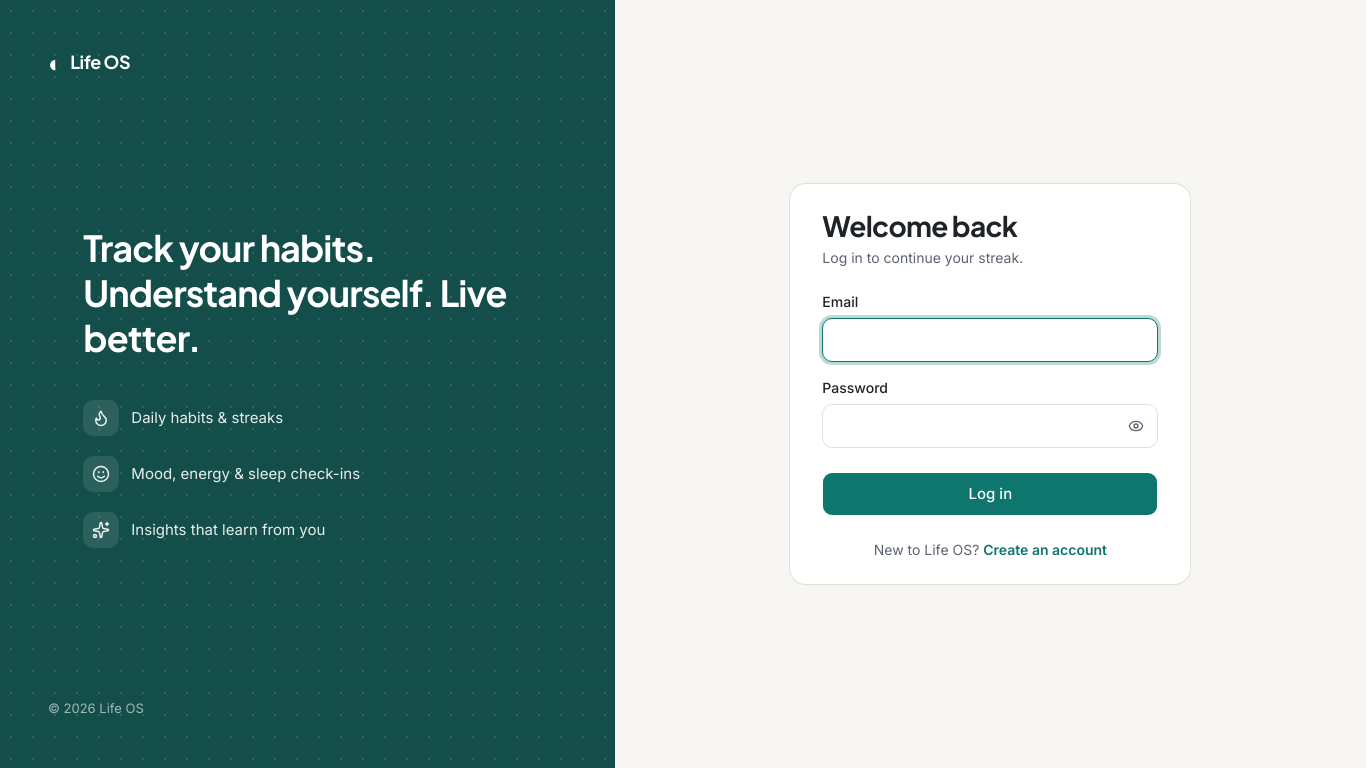
Test case: routing › sends a logged-out user to /login, then back to where they were going
The width and height of the screenshot is (1366, 768).
Expected: the heading "Welcome back" is shown, [822,208,1017,243]
Type "ahsan@example.com" into the field labelled "Email".
click(990, 340); type("ahsan@example.com")  # box [822,318,1158,362]
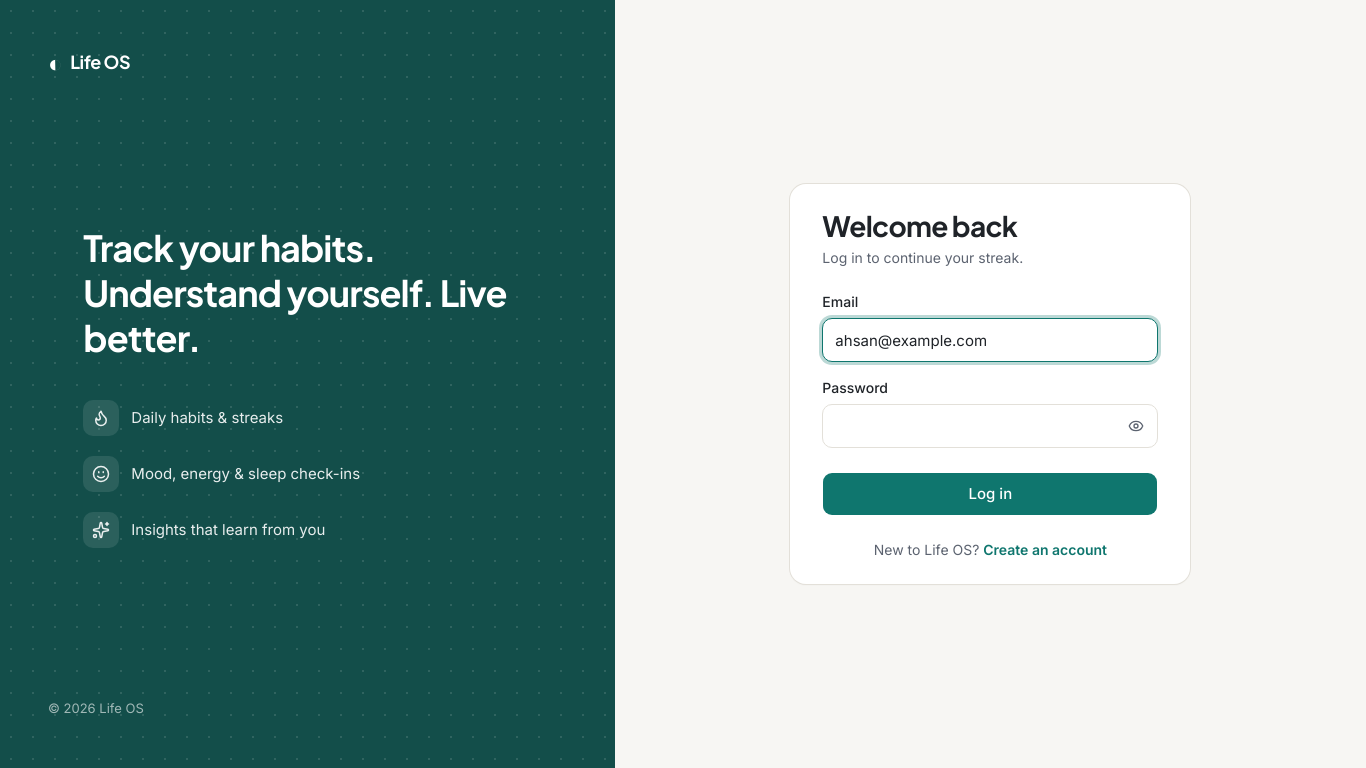
Type "Passw0rd!" into the password field labelled "Password".
click(990, 426); type("Passw0rd!")  # box [822,404,1158,448]
Then press Enter
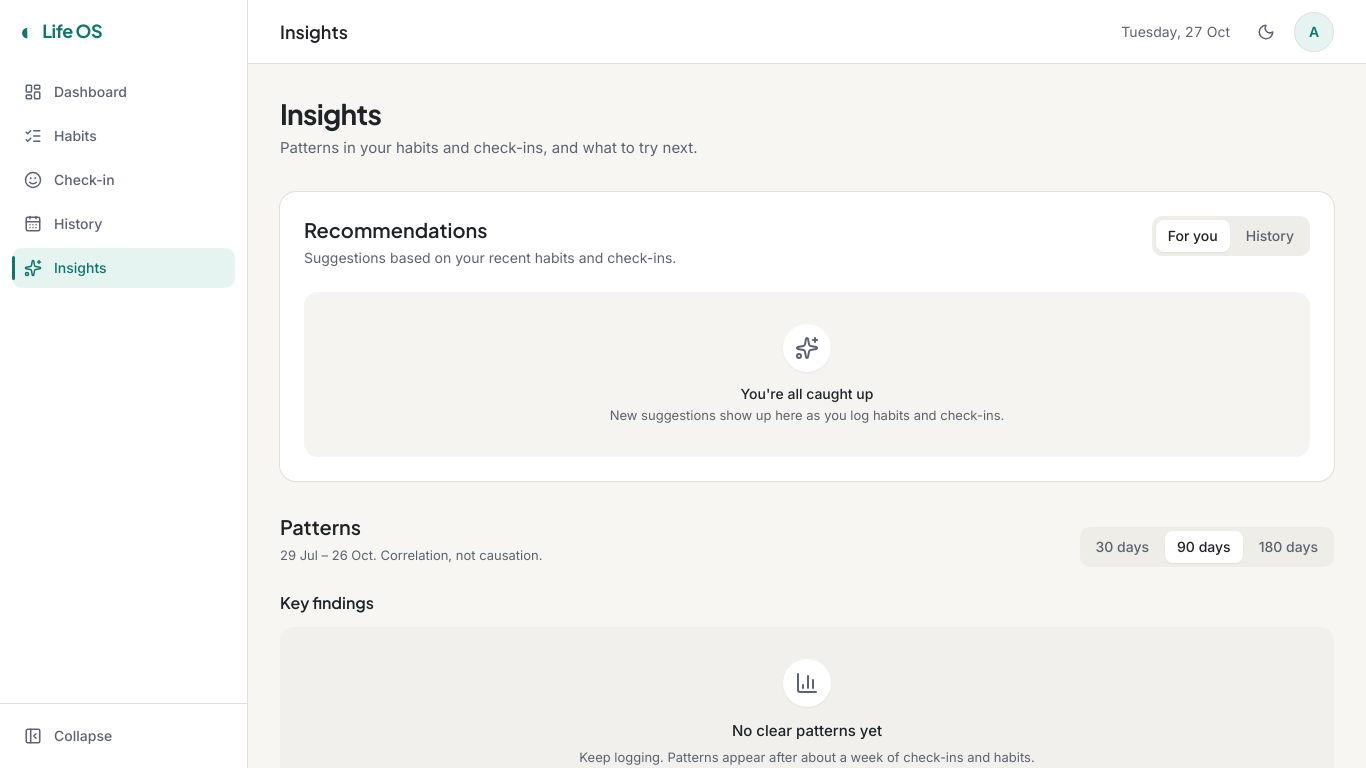
Expected: the heading "Insights" is shown, [280,96,381,131]
